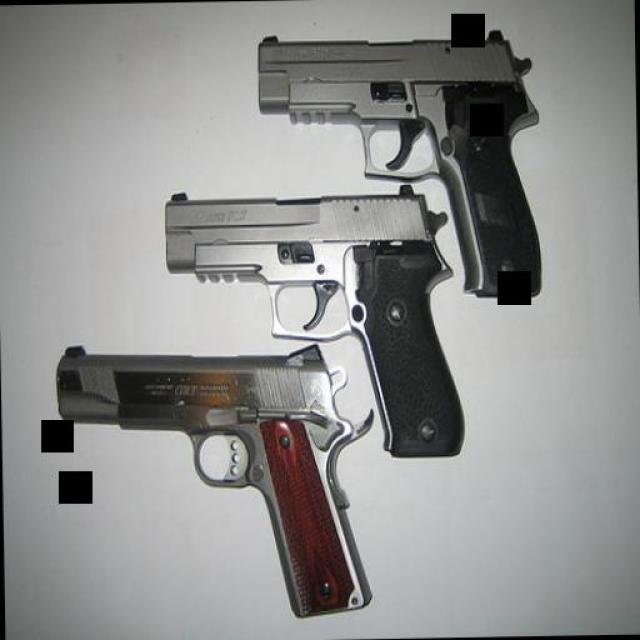gun: (55, 338, 374, 622), (164, 181, 462, 464), (253, 24, 545, 301)
